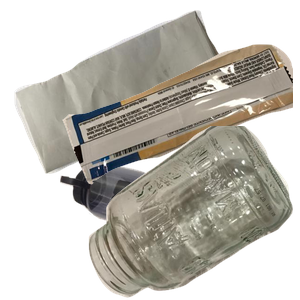glass: (86, 126, 300, 300)
paper: (12, 10, 240, 176)
plastic: (58, 162, 261, 300)
trash: (60, 42, 300, 219)
